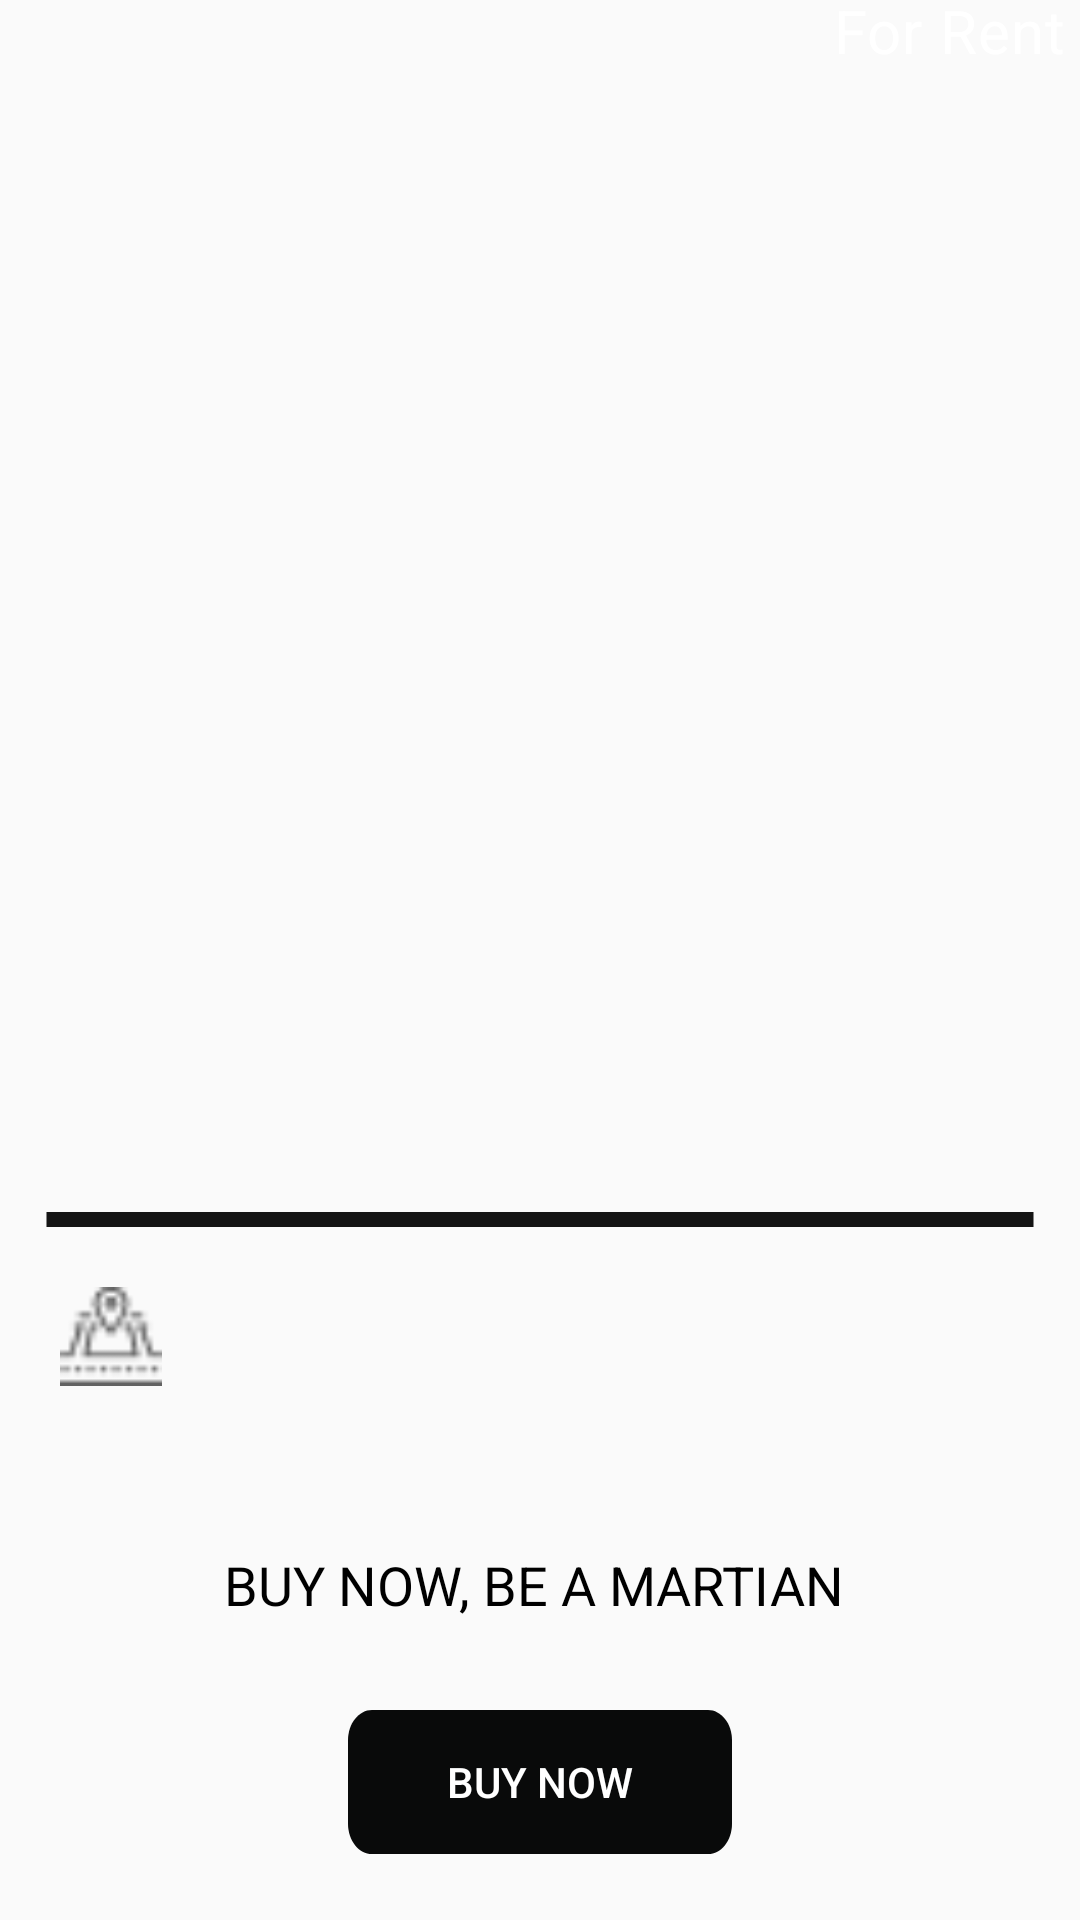

Named icons in this screenshot (1080w x 1920h) and their bounding boxes, {"left": x1, "top": y1, "right": x2, "bottom": y2}:
location: {"left": 60, "top": 1287, "right": 162, "bottom": 1386}
